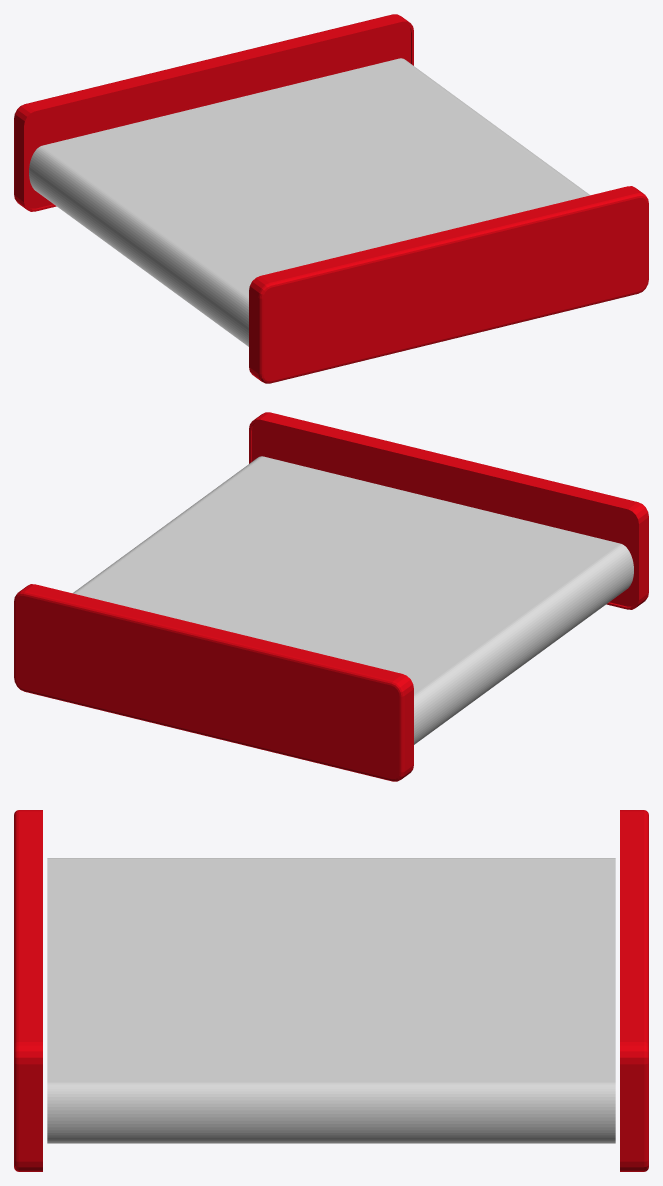
File: ConveyorBelt.fbx
3 renders of one model, top to bottom at view 1: azimuth 30°, elevation 25°; view 2: azimuth 150°, elevation 25°; view 3: azimuth 270°, elevation 25°, orthographic. The views are drawn at different scales.
Visible parts, largest first — view 1: ConveyorBelt; view 2: ConveyorBelt; view 3: ConveyorBelt.
Boxes of the visible parts, x1=… form: ConveyorBelt: x1=14, y1=14, x2=648, y2=383; ConveyorBelt: x1=14, y1=412, x2=648, y2=781; ConveyorBelt: x1=14, y1=810, x2=648, y2=1171.
Size of what is drawn, in the model's own units: 61 by 15 by 67.07.
